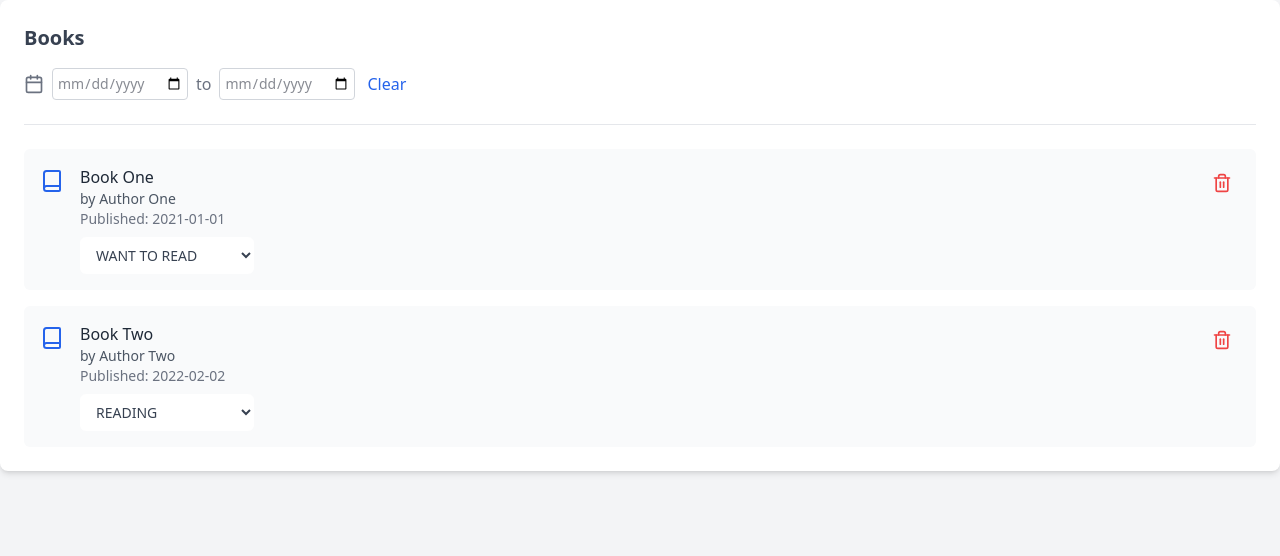
Scenario: BooksList › should show undo button when a book is deleted
Click the button named "Delete" at (1222, 183), box [1204, 165, 1240, 201]
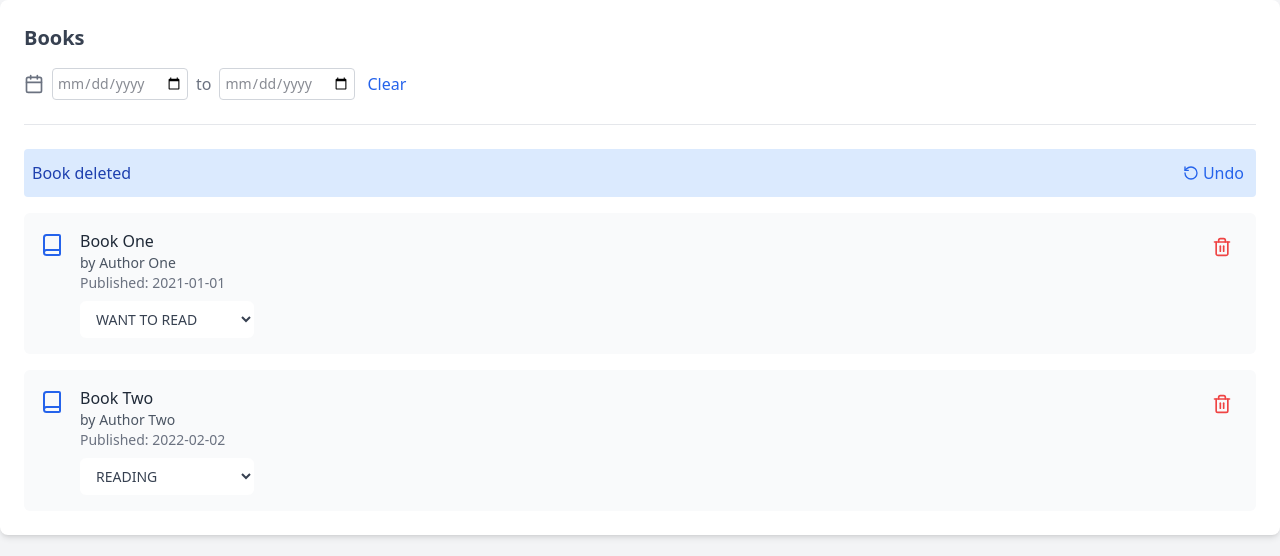
Expected: the text "Book deleted" is shown, [32, 161, 131, 185]
Expected: the button "Undo" is shown, [1179, 157, 1248, 189]
